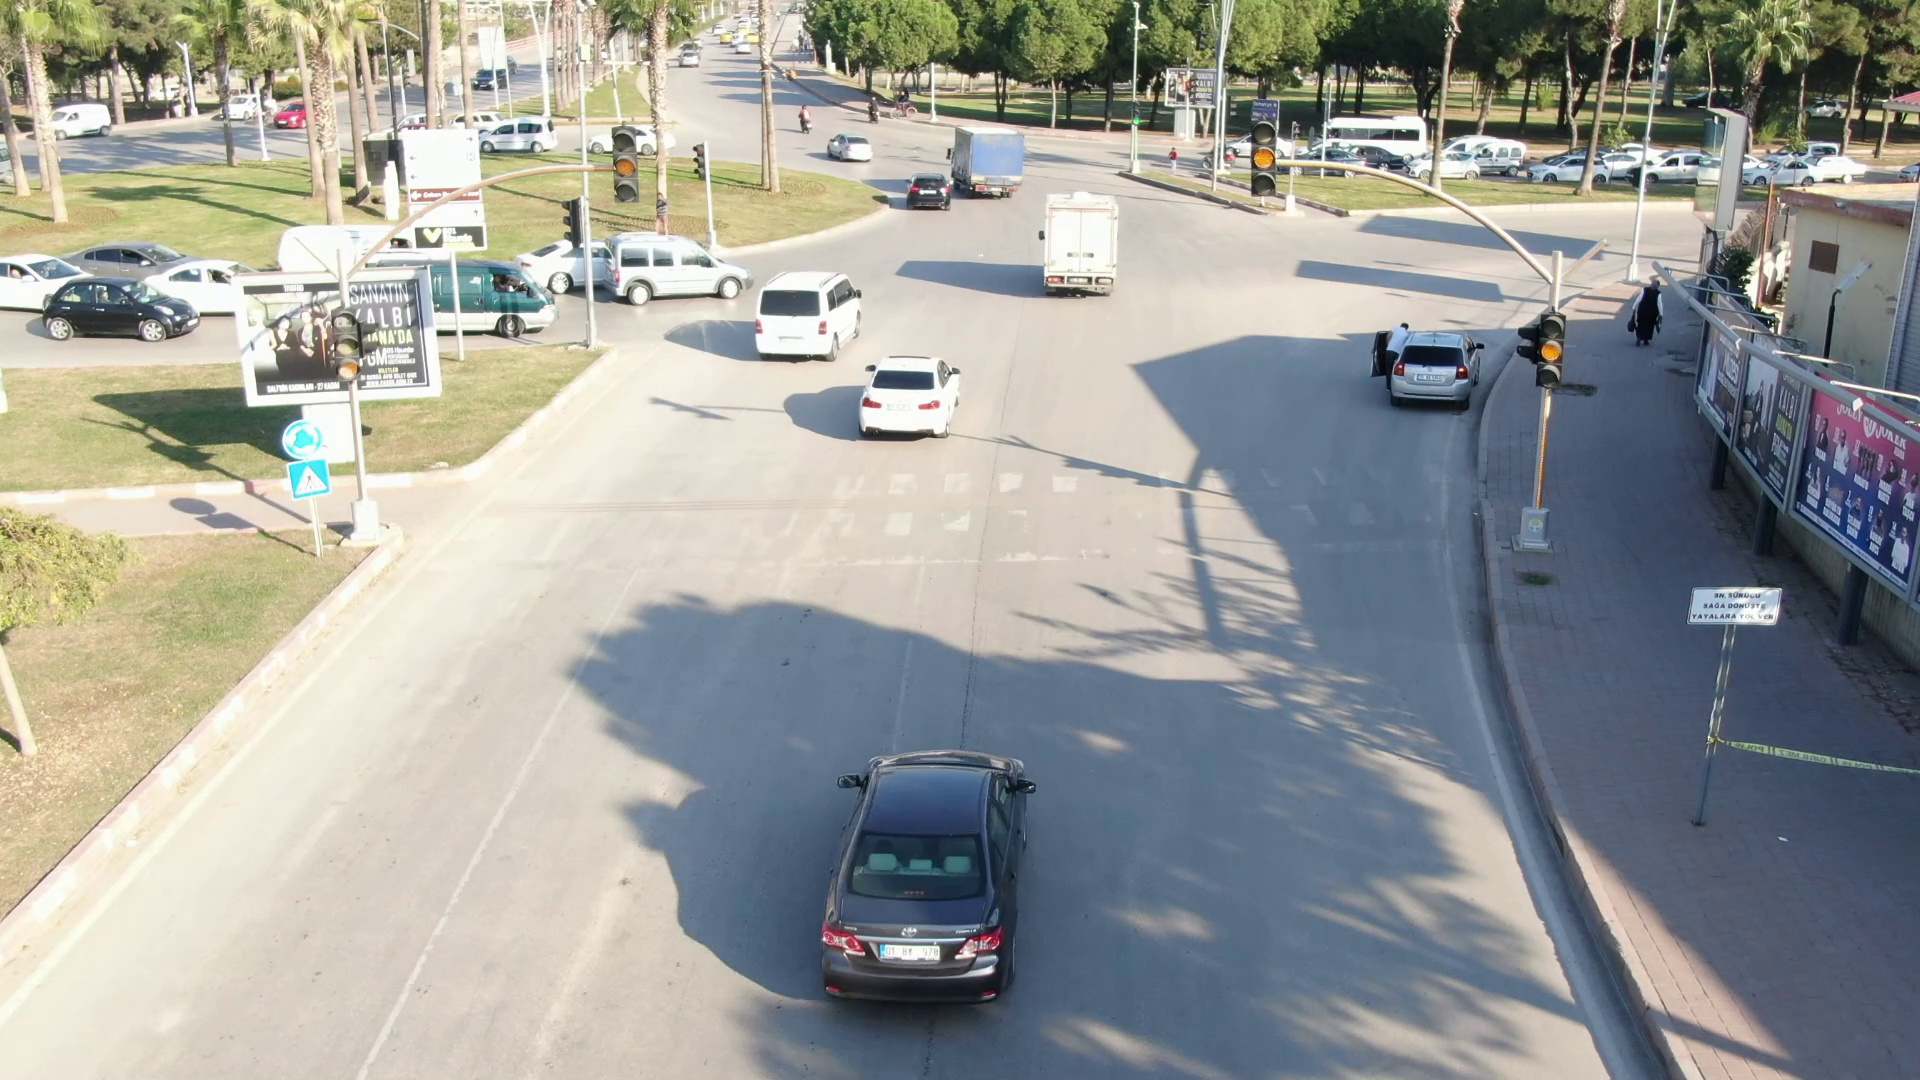car: (790, 703, 1085, 1020), (864, 354, 1006, 464), (36, 265, 207, 349), (739, 257, 863, 369), (600, 223, 756, 309), (1031, 188, 1139, 306), (944, 117, 1034, 206), (1389, 336, 1503, 405), (901, 173, 958, 218)
person: (1622, 269, 1676, 345)
